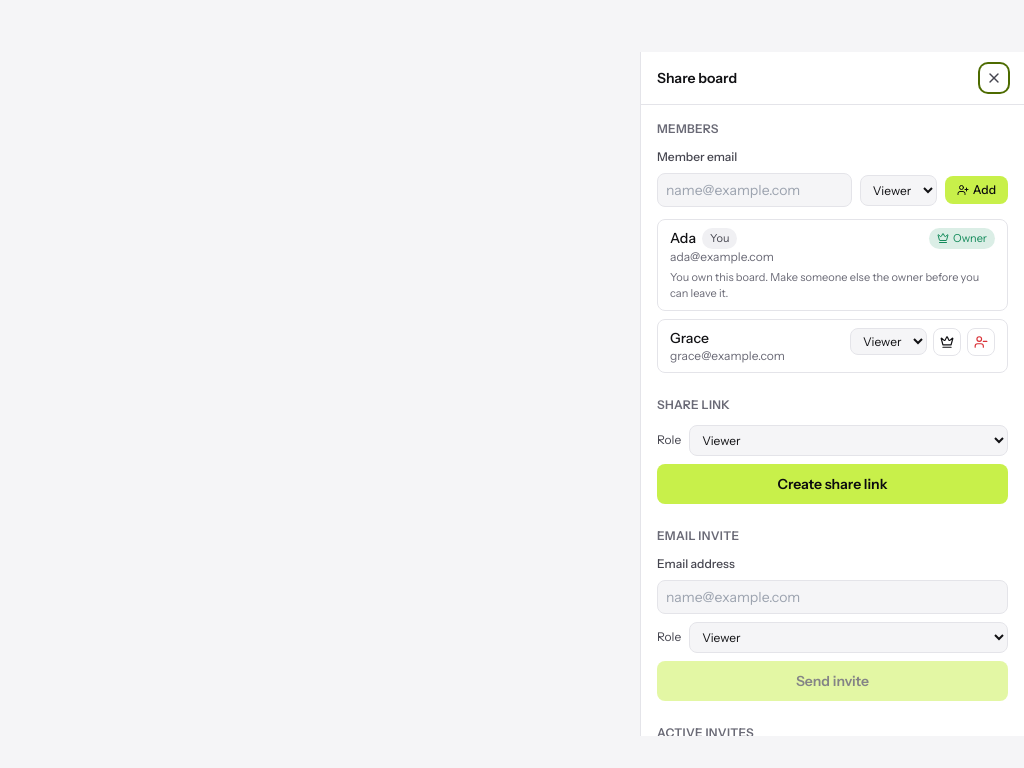
Scenario: BoardSharingPanel › shows a failed link creation from the removal notice only in the notice
Click the button named "remove grace" at (981, 342), box 967,328 -> 995,356
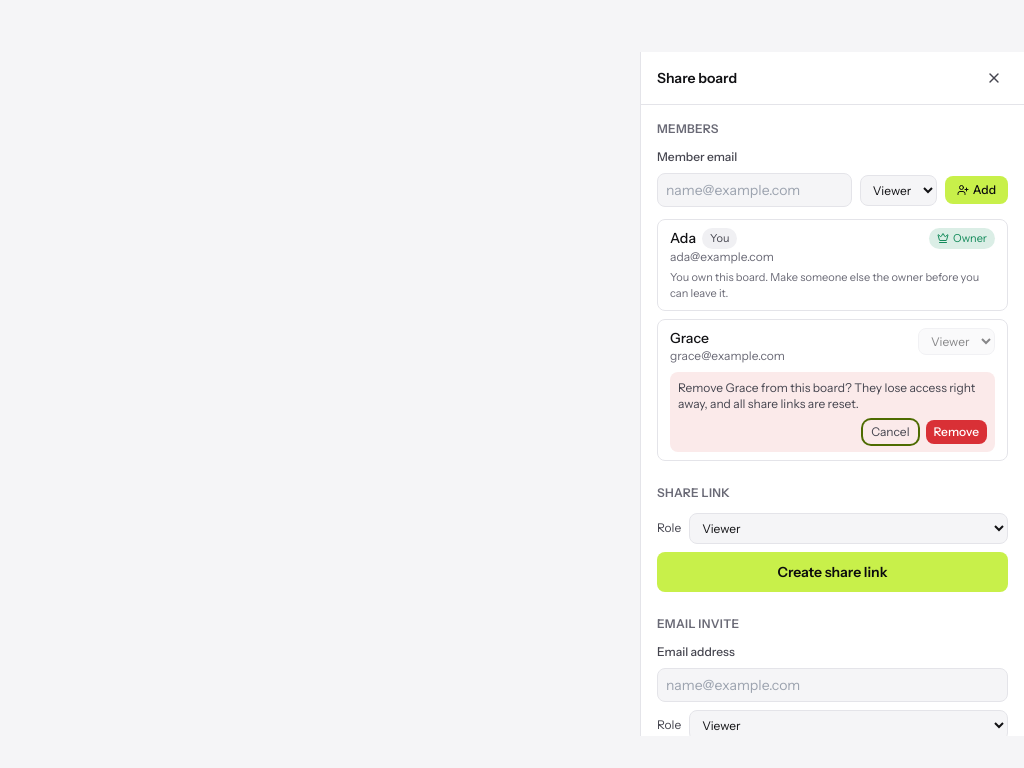
Click the button with aria-label "confirm remove" at (956, 432), box 926,420 -> 987,444
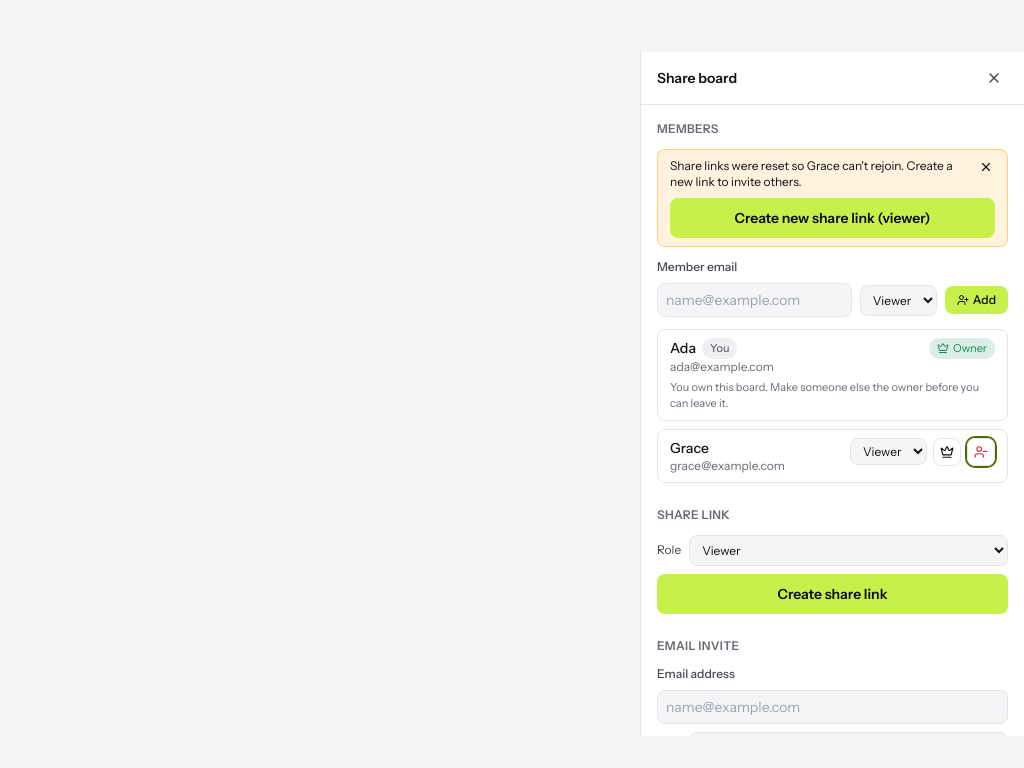
Click the button "Create new share link (viewer)" at (832, 218), box 670,198 -> 995,238
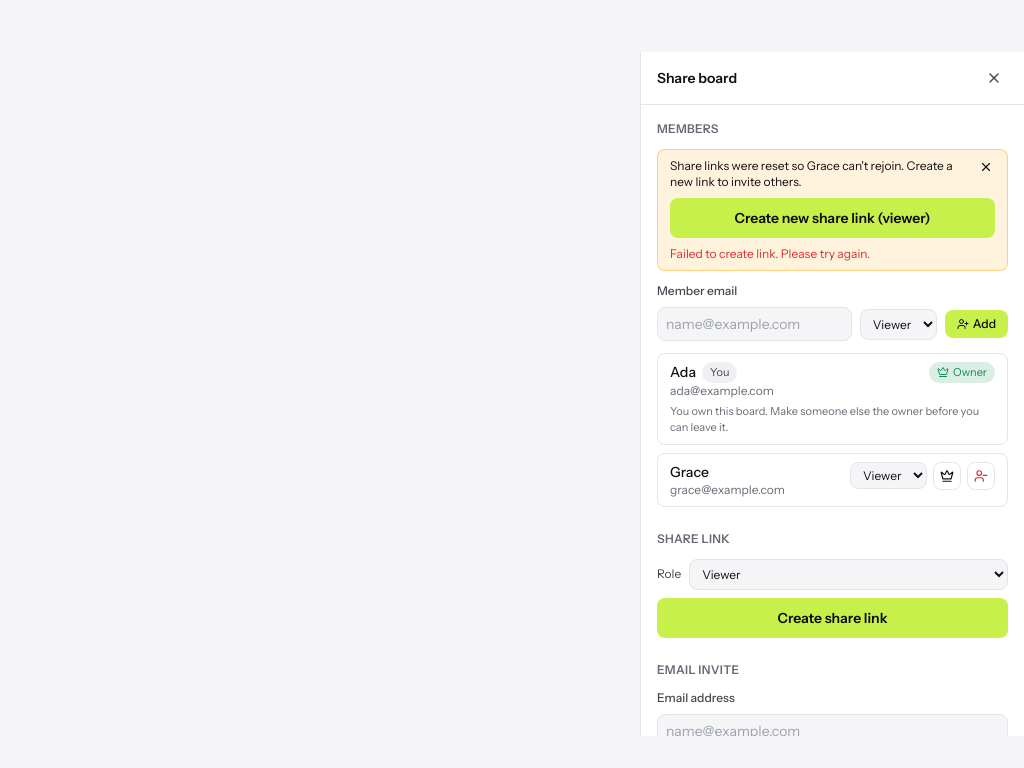
Now the message shows "Failed to create link", box 670,246 -> 870,261
Now the text "Failed to create link. Please try again." is shown once, box 670,246 -> 870,261
